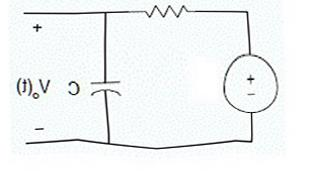Battery: (210, 47, 286, 123)
